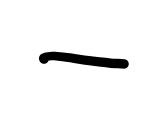minus: (38, 47, 128, 73)
